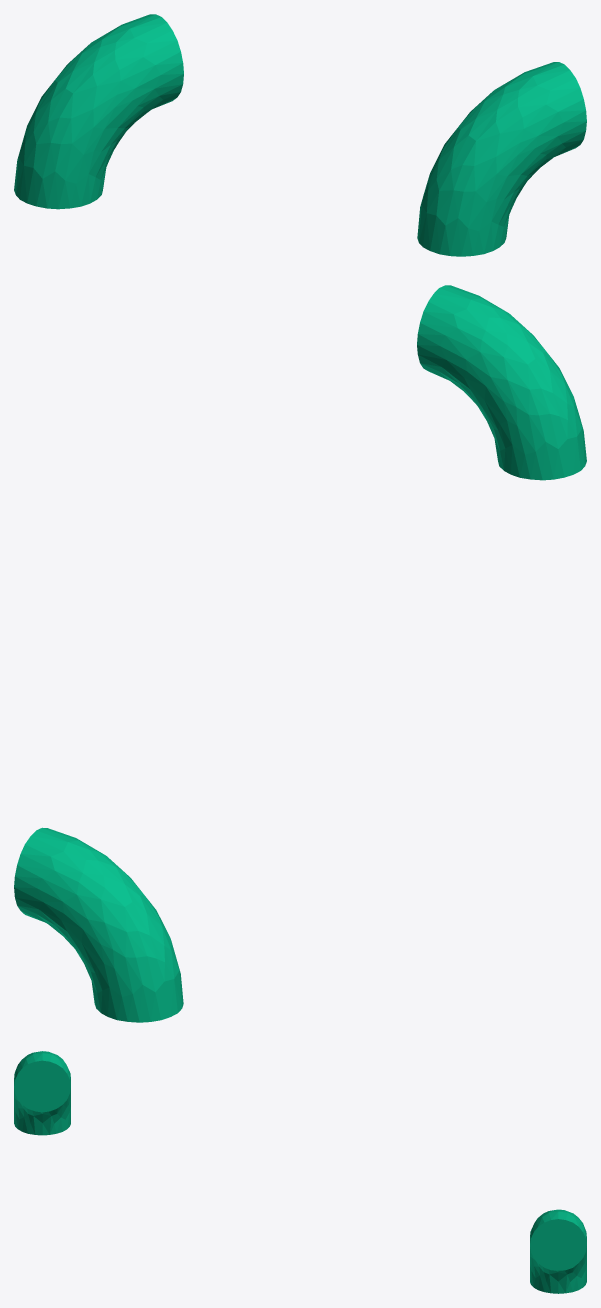
3 renders of one model, top to bottom at view 1: azimuth 30°, elevation 25°; view 2: azimuth 150°, elevation 25°; view 3: azimuth 270°, elevation 25°, orthographic. The views are drawn at different scales.
Size of the model in its own units: 0.2096 by 0.5593 by 1.15.
